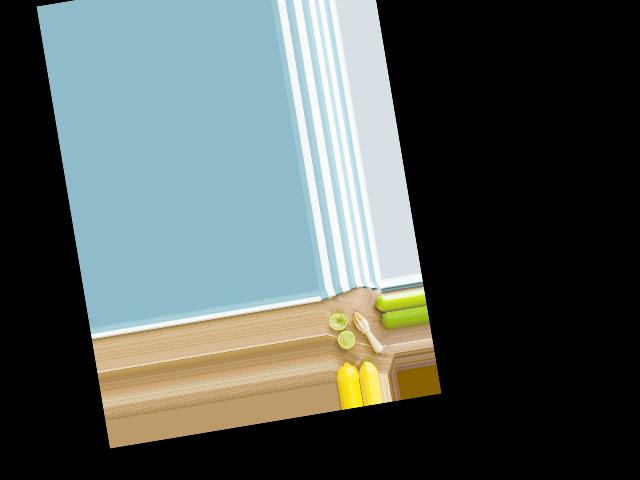lemon: (332, 357, 361, 382)
